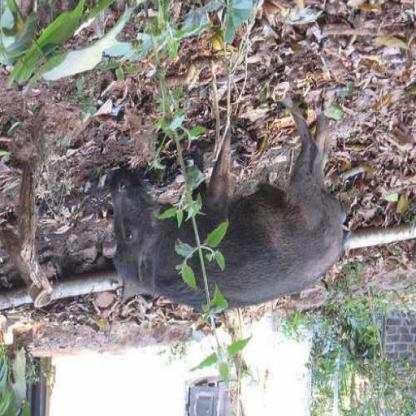boar: (88, 65, 379, 335)
